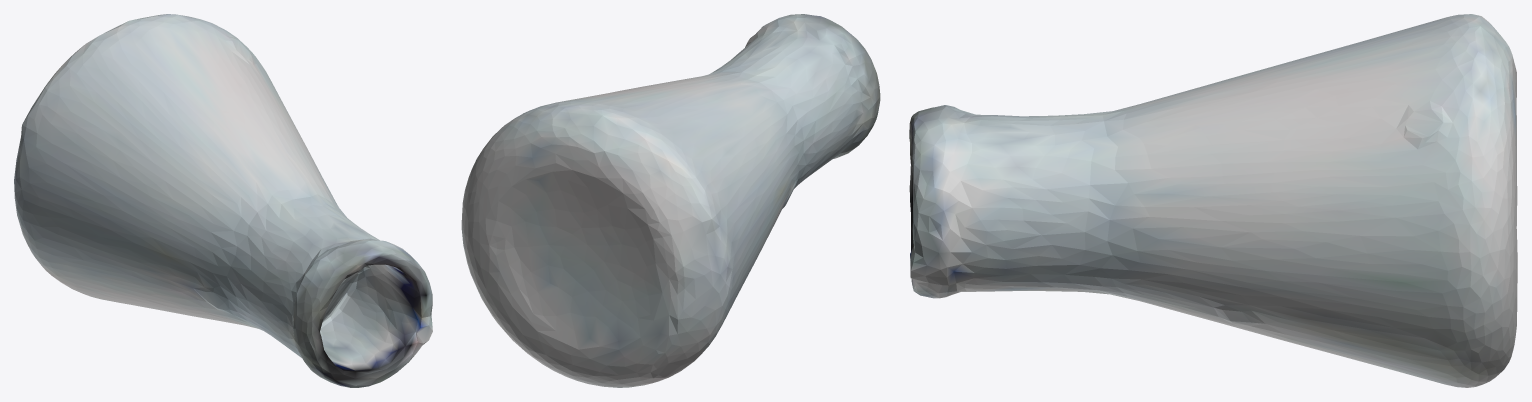
File: scan.obj
The picture shows the model from 3 angles, left to right: view 1: azimuth 30°, elevation 25°; view 2: azimuth 150°, elevation 25°; view 3: azimuth 270°, elevation 25°; orthographic projection. The views are drawn at different scales.
Visible parts, largest first — view 1: scan.ply; view 2: scan.ply; view 3: scan.ply.
Boxes of the visible parts, x1=… form: scan.ply: x1=14, y1=14, x2=432, y2=387; scan.ply: x1=461, y1=14, x2=880, y2=387; scan.ply: x1=909, y1=14, x2=1517, y2=387.
Size of the model in its own units: 0.0745 by 0.0748 by 0.1217.
